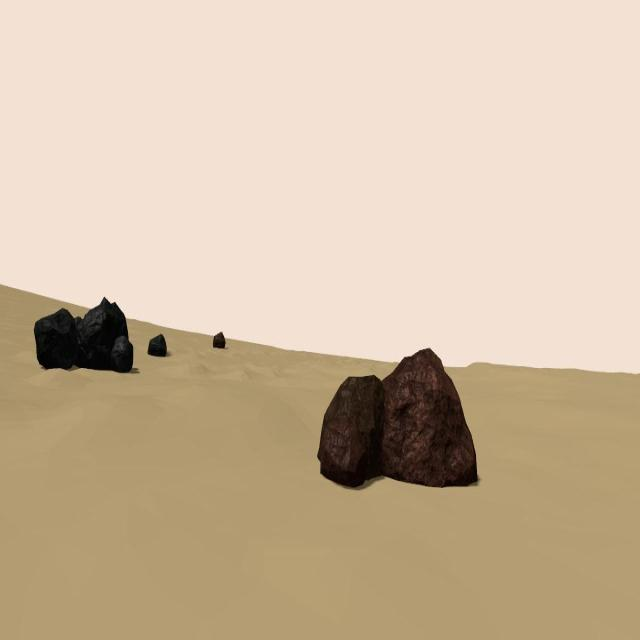rock: (380, 348, 479, 486), (317, 374, 384, 483), (76, 296, 128, 371), (320, 414, 368, 486), (34, 308, 76, 369), (111, 338, 133, 372), (148, 333, 166, 357), (213, 330, 224, 348)
